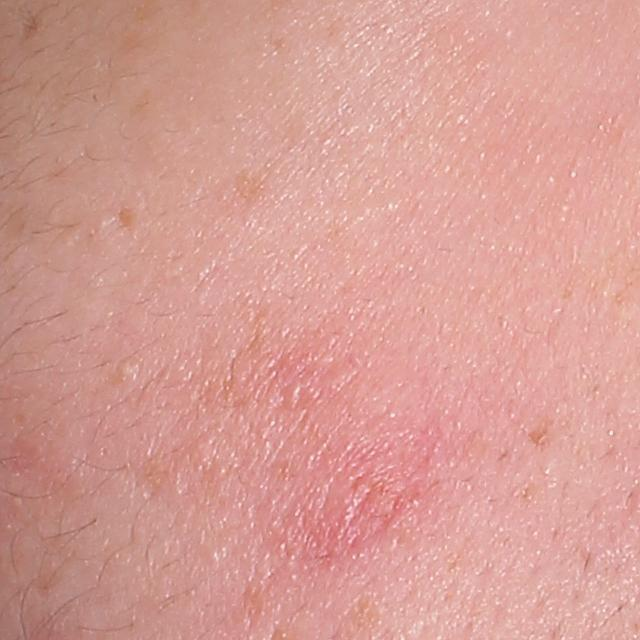comedo: (113, 354, 146, 380)
melasma: (231, 165, 276, 207)
